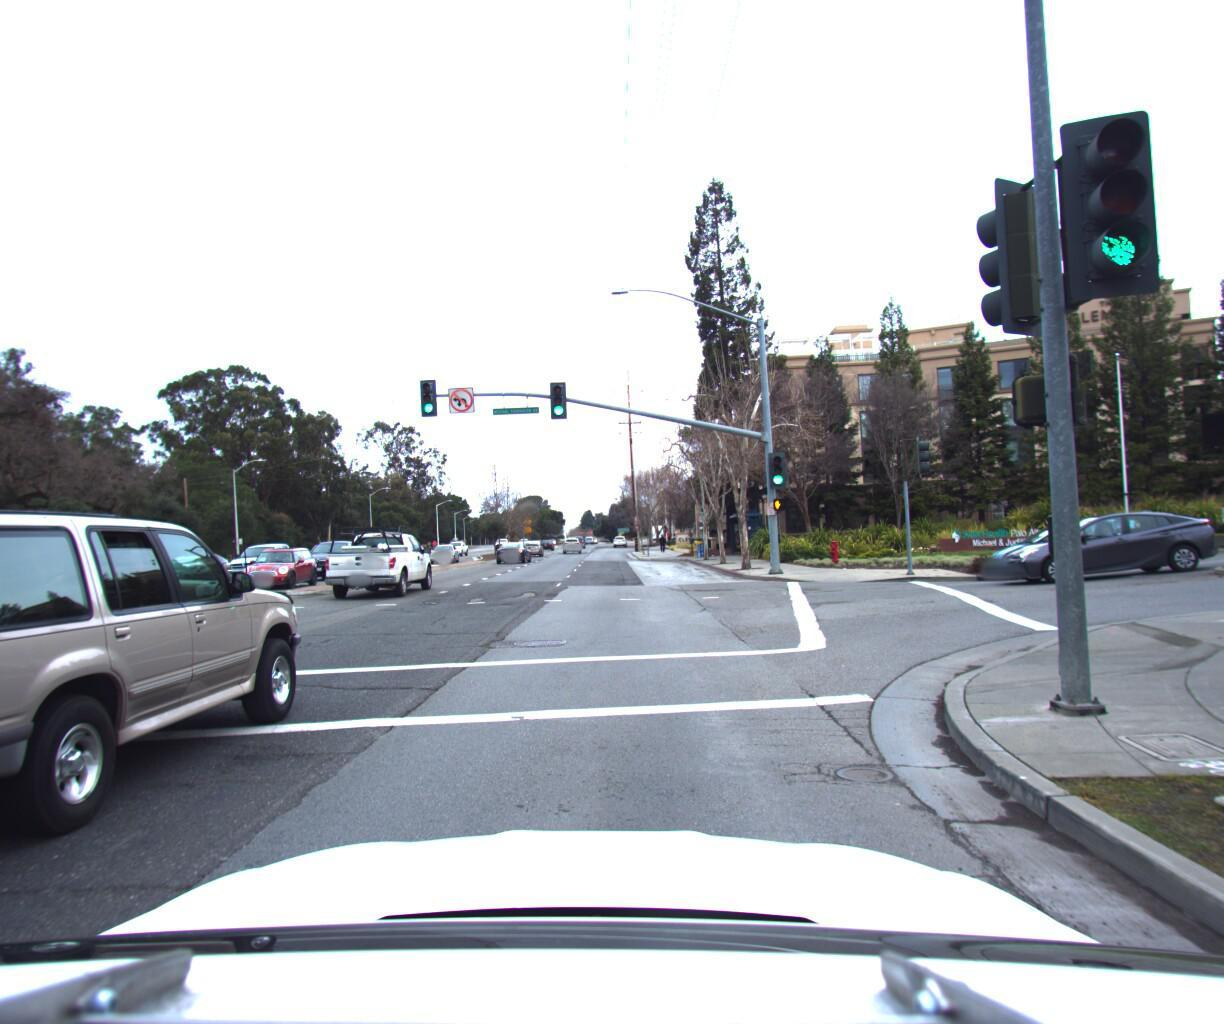car: (981, 501, 1222, 578), (972, 504, 1174, 575), (316, 516, 442, 596), (237, 537, 325, 585), (223, 534, 307, 578), (294, 531, 376, 574), (495, 534, 534, 559), (428, 534, 462, 554), (523, 530, 548, 548), (563, 527, 582, 545)
